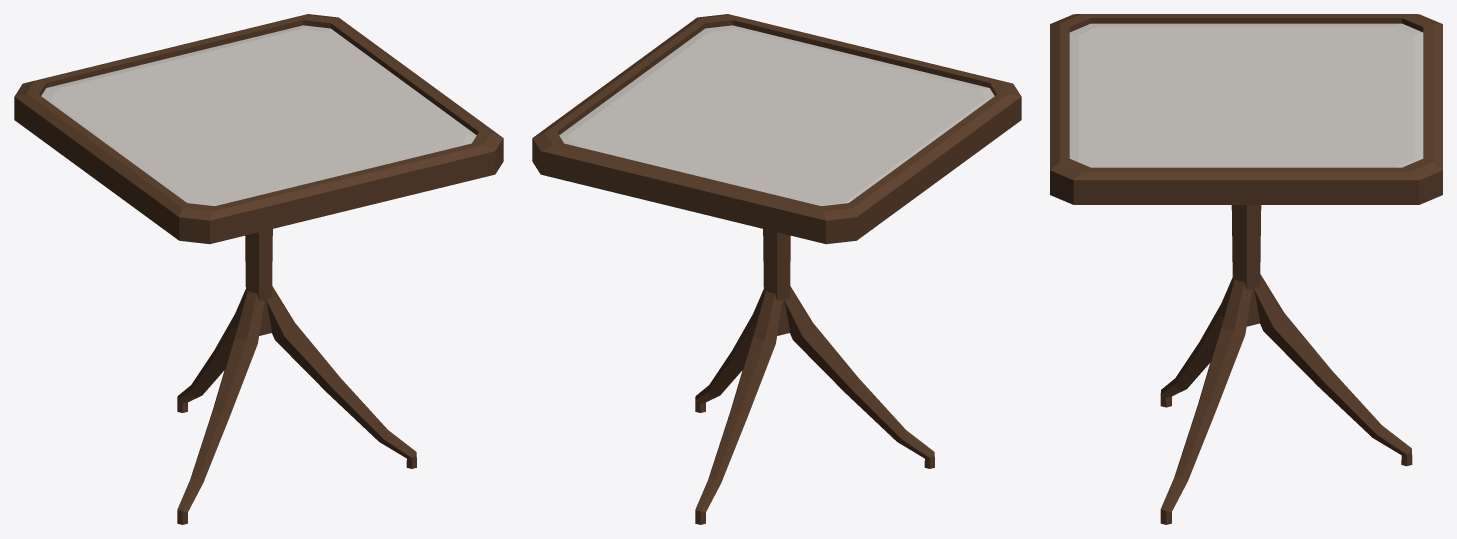
Rendered from home_sidetable.glb.
The picture shows the model from 3 angles, left to right: view 1: azimuth 30°, elevation 25°; view 2: azimuth 150°, elevation 25°; view 3: azimuth 270°, elevation 25°; orthographic projection. The views are drawn at different scales.
Parts seen in each view (by area): view 1: side-table-body; view 2: side-table-body; view 3: side-table-body.
Part boxes in pixels (<box>): side-table-body: <box>14,14,503,524</box>; side-table-body: <box>532,14,1021,524</box>; side-table-body: <box>1050,14,1442,524</box>.
Bounding box in the file's own units: 0.49 × 0.51 × 0.49.
